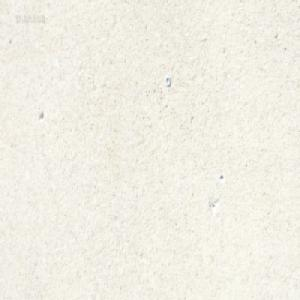Washer: (165, 76, 171, 87)
